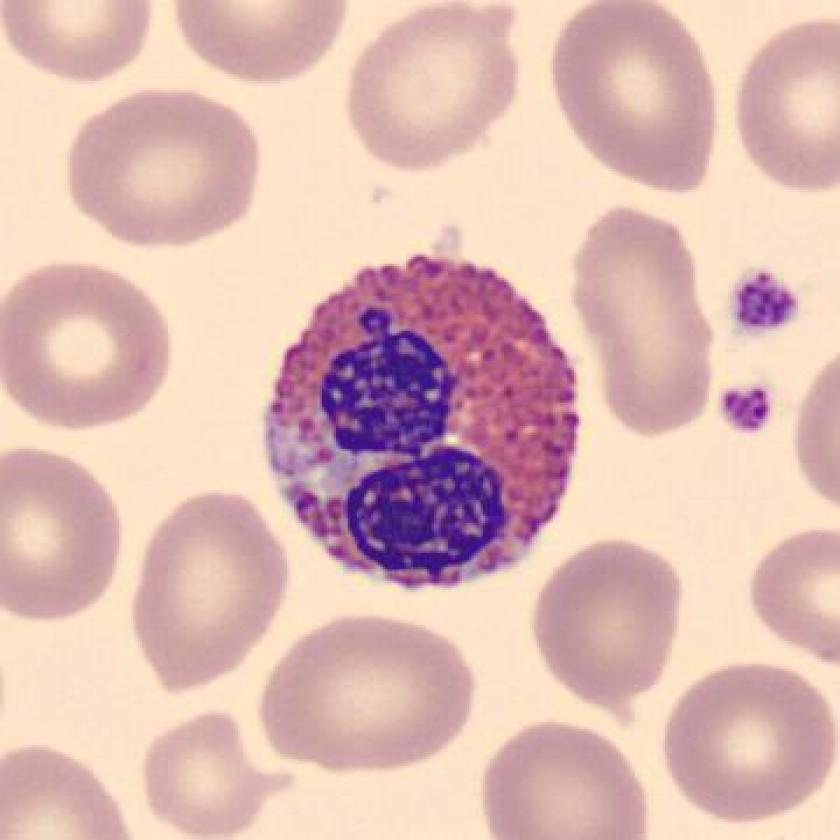eosinophil: (255, 242, 594, 603)
